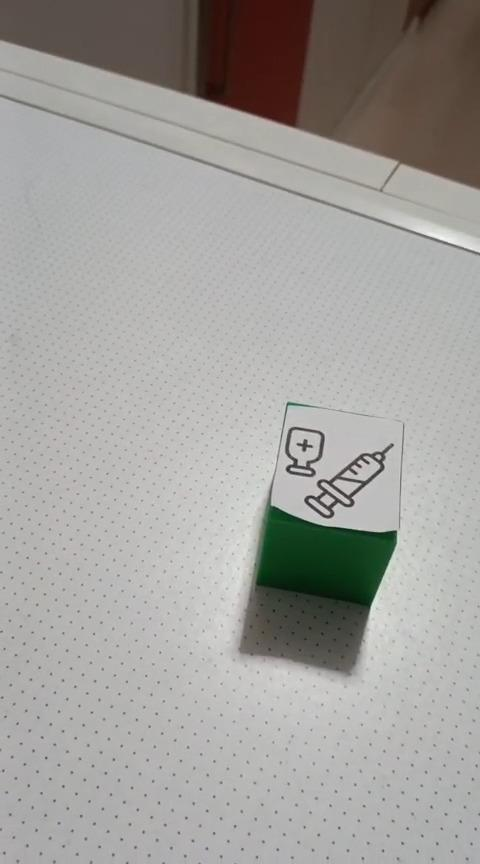antiseptic cream: (253, 400, 405, 607)
